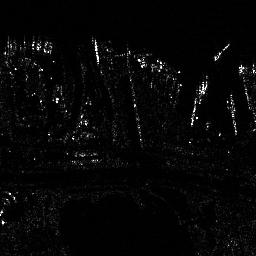ship: (5, 38, 52, 53)
